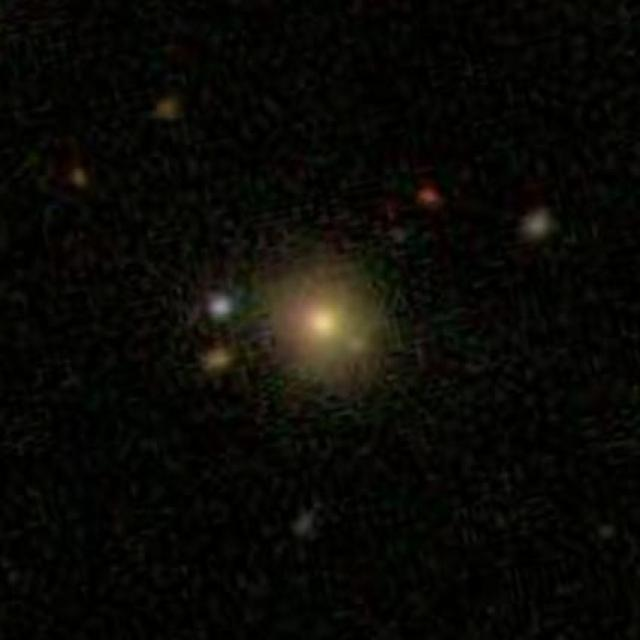galaxy: (233, 231, 417, 420), (514, 197, 556, 248), (287, 499, 325, 546), (196, 342, 242, 377), (408, 176, 445, 219), (206, 291, 238, 322), (341, 330, 373, 360), (152, 91, 182, 123), (66, 162, 94, 191)
